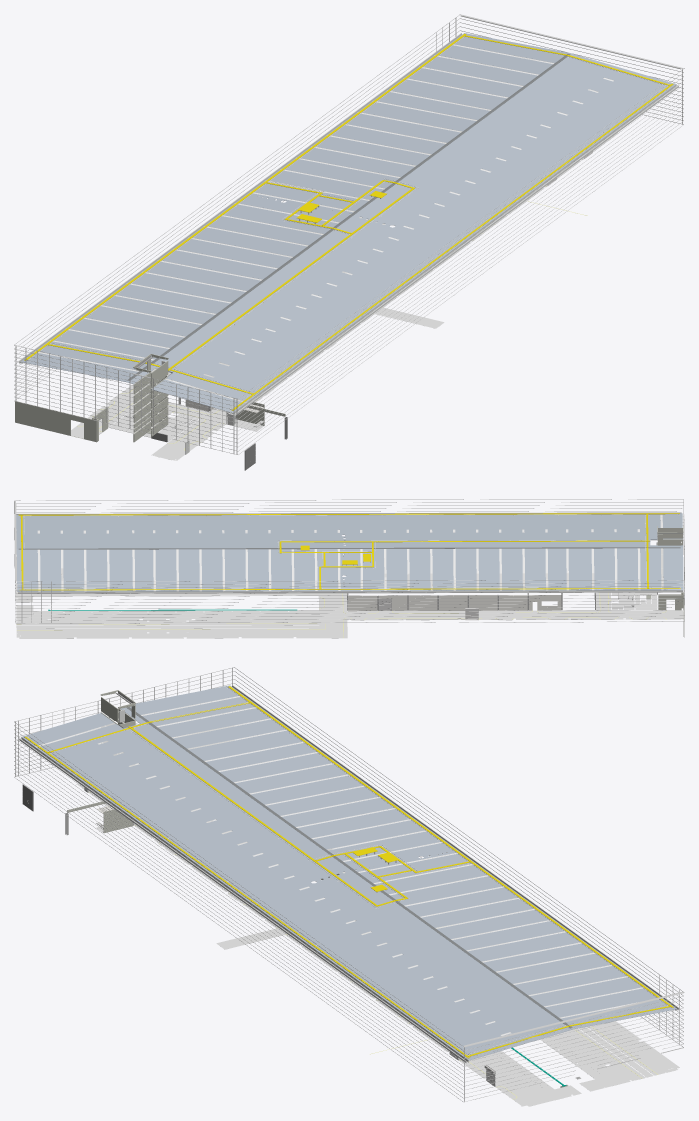
The model's file is pt107-l1t1-1542-107-con-ed-arq-mo-0001-r02.glb.
3 views of the same model, one above another, from view 1: azimuth 30°, elevation 25°; view 2: azimuth 150°, elevation 25°; view 3: azimuth 270°, elevation 25° (orthographic). The views are drawn at different scales.
Visible parts, largest first — view 1: 1vlmzSixLAfeMKAmqSROBE, 2qnQQ4RxL1ZBAVKJ3qDvlw, 1vlmzSixLAfeMKAmqSROAz, 3aFt57RxL1zA$VxaRwT2Bg, 00Xelfv_T08hHbPY2A3UWr, 1vlmzSixLAfeMKAmqSROAy, 2oE$Myj7v3c83GQzhG6ulh, 06BhbRI$nFEuqvij6Z2YJj, 0bpjt0W6H5rwPrf3051M03; view 2: 1vlmzSixLAfeMKAmqSROBE, 2qnQQ4RxL1ZBAVKJ3qDvlw, 1vlmzSixLAfeMKAmqSROAy, 00Xelfv_T08hHbPY2A3UWr, 1vlmzSixLAfeMKAmqSROAz, 06BhbRI$nFEuqvij6Z2YJj, 2oE$Myj7v3c83GQzhG6ulh, 20HGcNNkjDAOzhOmP6rJmx, 20HGcNNkjDAOzhOmP6rJtK, 20HGcNNkjDAOzhOmP6rJm2, 20HGcNNkjDAOzhOmP6rJnZ, 20HGcNNkjDAOzhOmP6rJti (+31 smaller); view 3: 1vlmzSixLAfeMKAmqSROBE, 2qnQQ4RxL1ZBAVKJ3qDvlw, 1vlmzSixLAfeMKAmqSROAz, 00Xelfv_T08hHbPY2A3UWr, 1vlmzSixLAfeMKAmqSROAy, 2oE$Myj7v3c83GQzhG6ulh, 06BhbRI$nFEuqvij6Z2YJj, 0bpjt0W6H5rwPrf3051M03.
Boxes of the visible parts, x1,y1,x2,y2 form: 1vlmzSixLAfeMKAmqSROBE: (20,33,676,413); 2qnQQ4RxL1ZBAVKJ3qDvlw: (71,103,618,460); 1vlmzSixLAfeMKAmqSROAz: (233,85,679,415); 3aFt57RxL1zA$VxaRwT2Bg: (15,401,96,442); 00Xelfv_T08hHbPY2A3UWr: (128,54,570,380); 1vlmzSixLAfeMKAmqSROAy: (18,33,461,364); 2oE$Myj7v3c83GQzhG6ulh: (24,33,466,360); 06BhbRI$nFEuqvij6Z2YJj: (231,83,673,410); 0bpjt0W6H5rwPrf3051M03: (168,187,414,370); 1vlmzSixLAfeMKAmqSROBE: (16,513,683,591); 2qnQQ4RxL1ZBAVKJ3qDvlw: (16,558,683,638); 1vlmzSixLAfeMKAmqSROAy: (18,590,683,593); 00Xelfv_T08hHbPY2A3UWr: (18,547,680,549); 1vlmzSixLAfeMKAmqSROAz: (16,512,681,514); 06BhbRI$nFEuqvij6Z2YJj: (18,513,679,515); 2oE$Myj7v3c83GQzhG6ulh: (20,588,680,590); 20HGcNNkjDAOzhOmP6rJmx: (16,505,683,506); 20HGcNNkjDAOzhOmP6rJtK: (16,502,683,503); 20HGcNNkjDAOzhOmP6rJm2: (16,508,681,509); 20HGcNNkjDAOzhOmP6rJnZ: (16,511,676,512); 20HGcNNkjDAOzhOmP6rJti: (15,499,683,500); 1vlmzSixLAfeMKAmqSROBE: (21,685,676,1060); 2qnQQ4RxL1ZBAVKJ3qDvlw: (76,783,679,1106); 1vlmzSixLAfeMKAmqSROAz: (19,738,468,1063); 00Xelfv_T08hHbPY2A3UWr: (126,707,572,1028); 1vlmzSixLAfeMKAmqSROAy: (232,685,678,1010); 2oE$Myj7v3c83GQzhG6ulh: (228,686,673,1007); 06BhbRI$nFEuqvij6Z2YJj: (24,736,469,1058); 0bpjt0W6H5rwPrf3051M03: (128,726,378,906).
Size of the model in its own units: 154 by 17.75 by 115.
